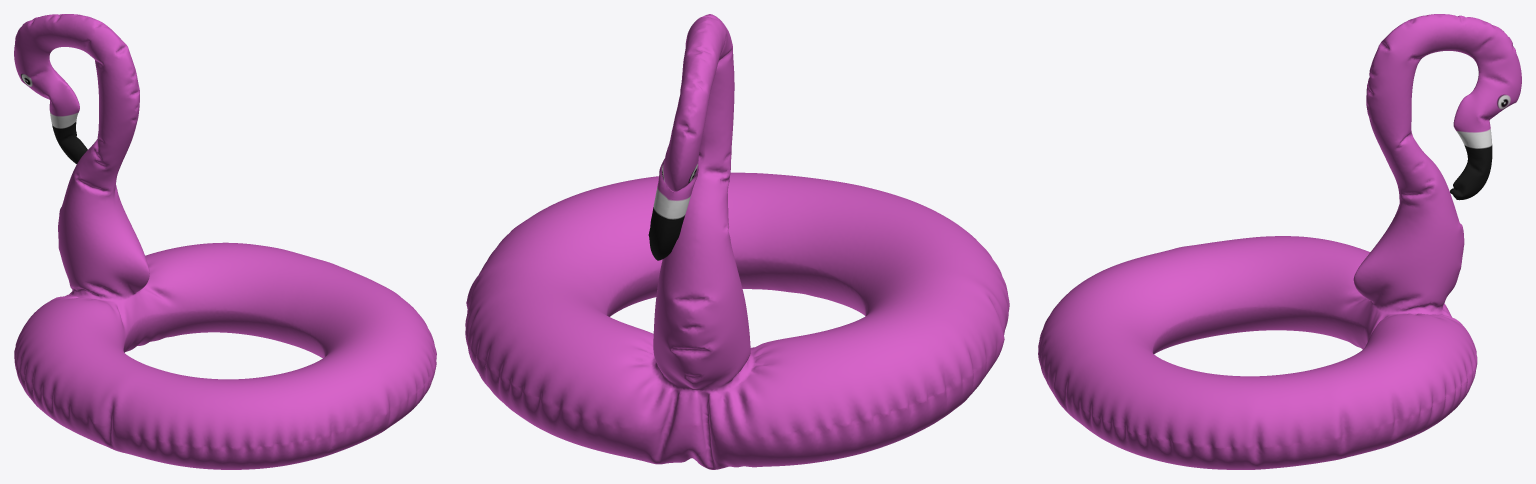
Rendered from flamingofloatie.glb.
3 renders of one model, left to right at view 1: azimuth 30°, elevation 25°; view 2: azimuth 150°, elevation 25°; view 3: azimuth 270°, elevation 25°, orthographic. The views are drawn at different scales.
Parts seen in each view (by area): view 1: Pool_Floatie_Flamingo; view 2: Pool_Floatie_Flamingo; view 3: Pool_Floatie_Flamingo.
Part boxes in pixels (x1,y1,x2,y2): Pool_Floatie_Flamingo: (14,14,436,469); Pool_Floatie_Flamingo: (465,14,1009,469); Pool_Floatie_Flamingo: (1038,14,1521,469).
Bounding box in the file's own units: 83.44 × 73.4 × 92.88.
2 materials, 2 textured.
